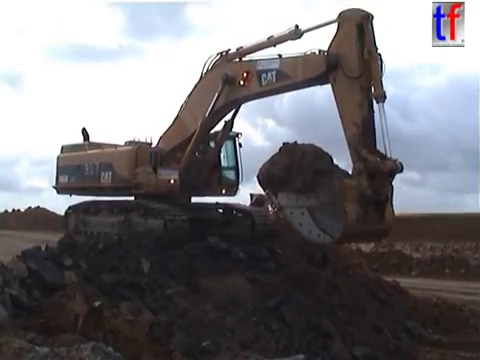excavator: (49, 5, 407, 256)
